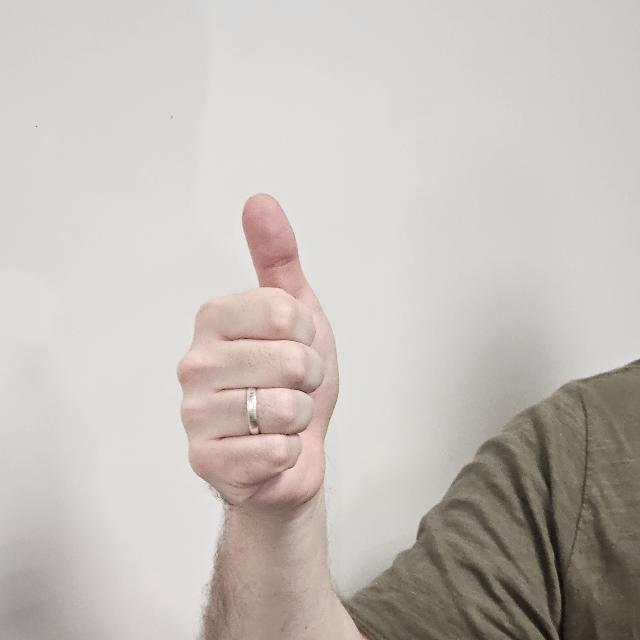Start: (174, 195, 346, 522)
